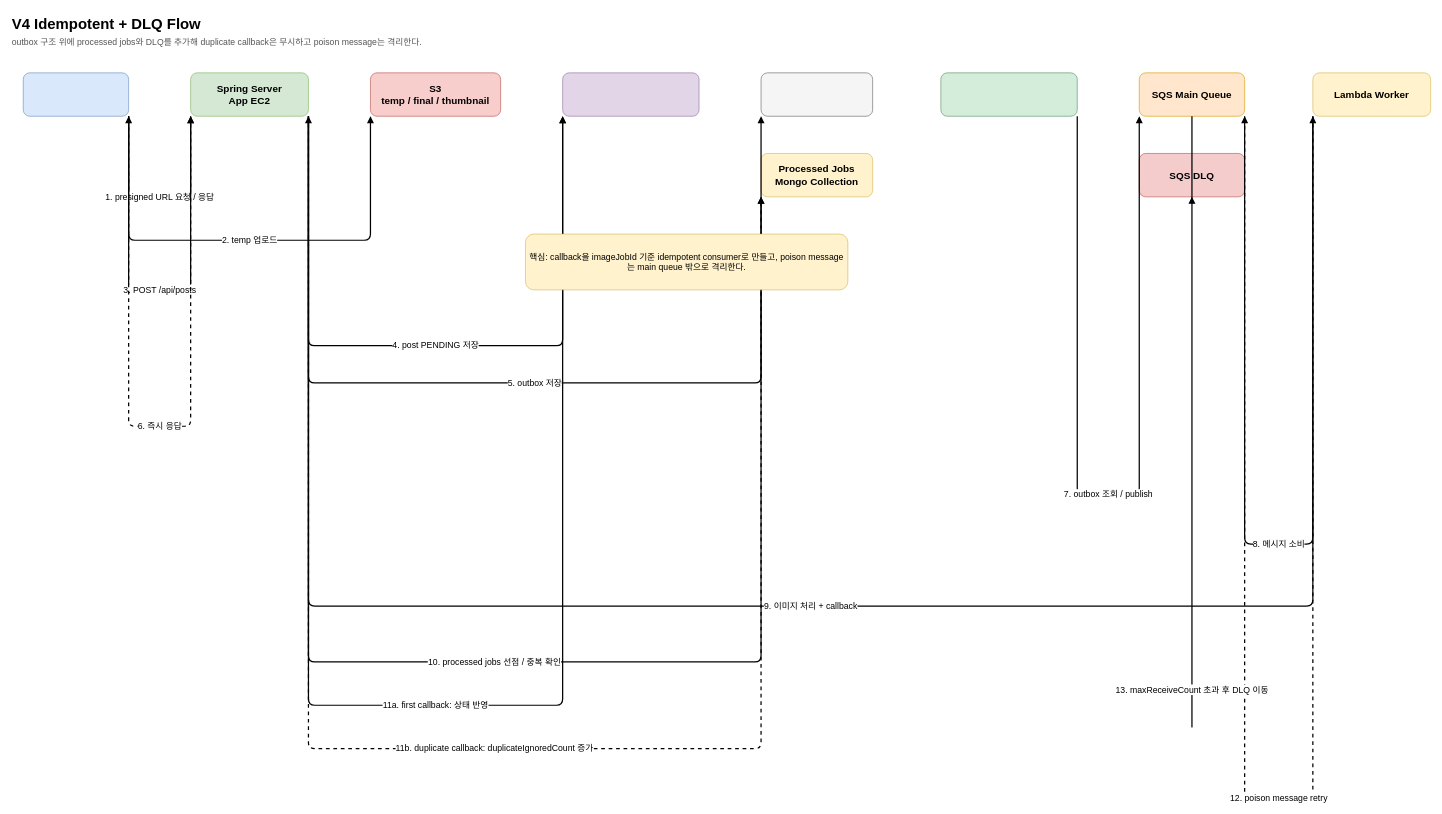
Some shapes in this 1442 by 814 pixel diagram are drawn without their labels. Each missing label, with the centre of its shape:
"Client k6 / User" goes at (76,94).
"Mongo Outbox" goes at (816,94).
"Outbox Relay Scheduler in Spring" goes at (1008,94).
"Post Store Mongo / MySQL / Redis" goes at (630,94).
